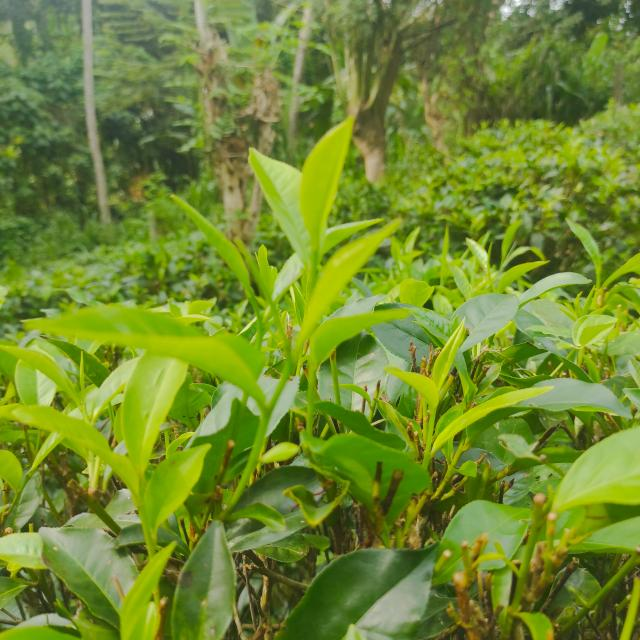unopened_leaf: (237, 239, 298, 364), (74, 345, 94, 425)
